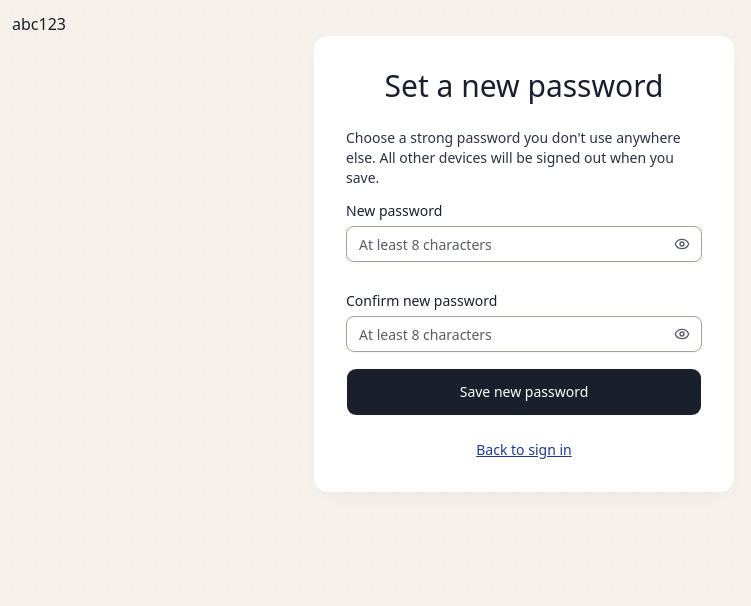
Test: ResetPasswordPage (Story 1-9b AC5 / AC6) › renders generic alert on 422 + form stays on input mode
Type "newStrong123" into the password field with test id "reset-new-password" at (524, 244), box [346,226,702,262]
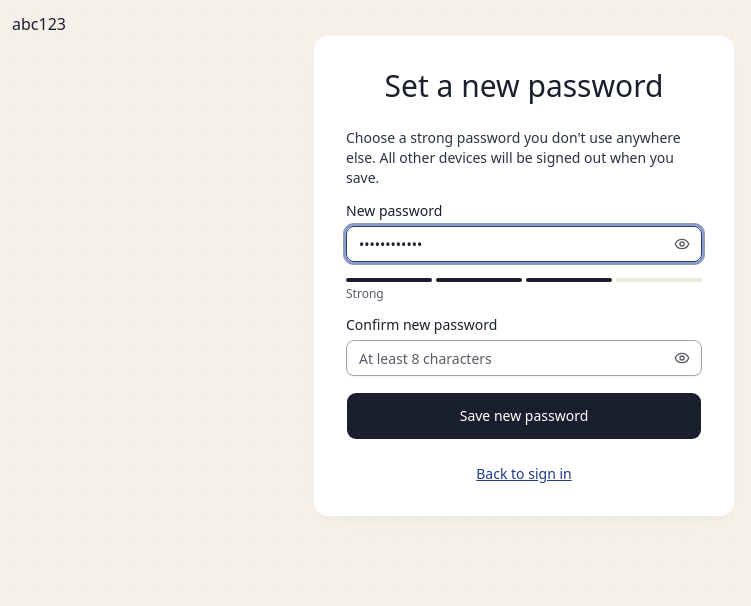
Type "newStrong123" into the password field with test id "reset-confirm-password" at (524, 358), box [346,340,702,376]
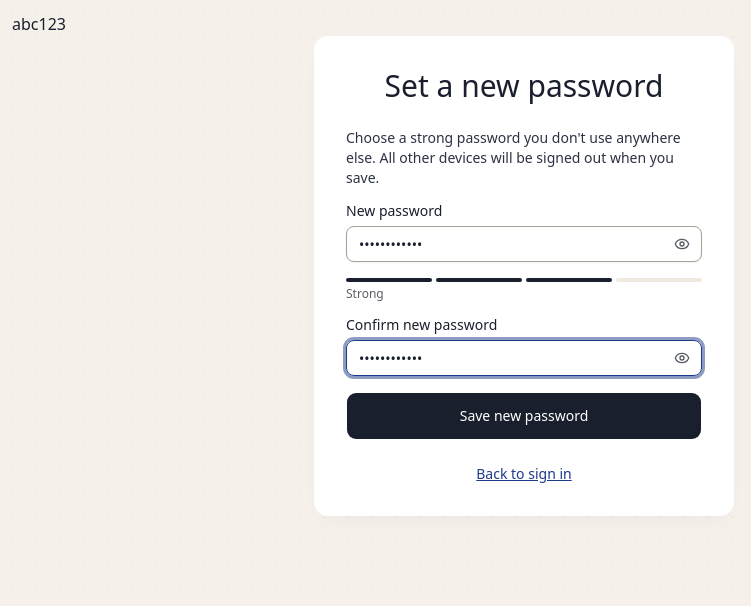
Click the button with test id "reset-submit" at (524, 416), box [346,392,702,440]
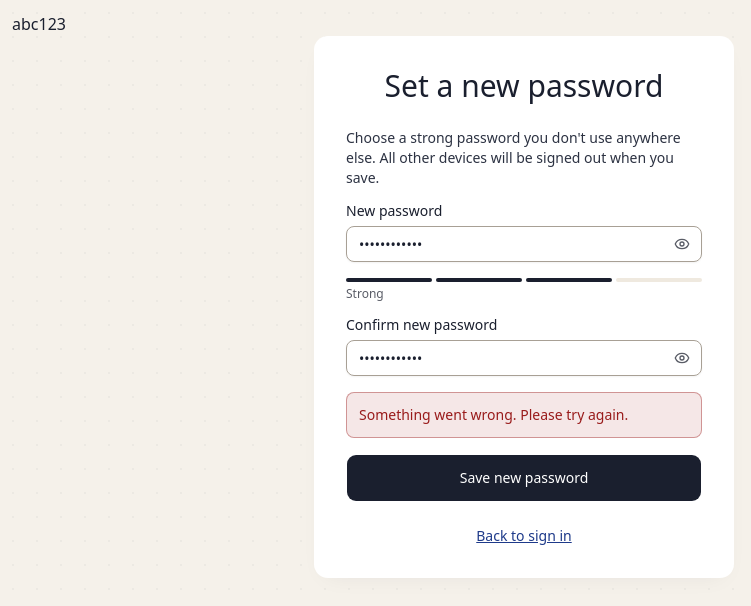
Expected: the form with test id "reset-password-form" is shown, [346,128,702,502]
Expected: the message with test id "reset-error-alert" reads "Something went wrong. Please try again.", [359,405,628,424]
